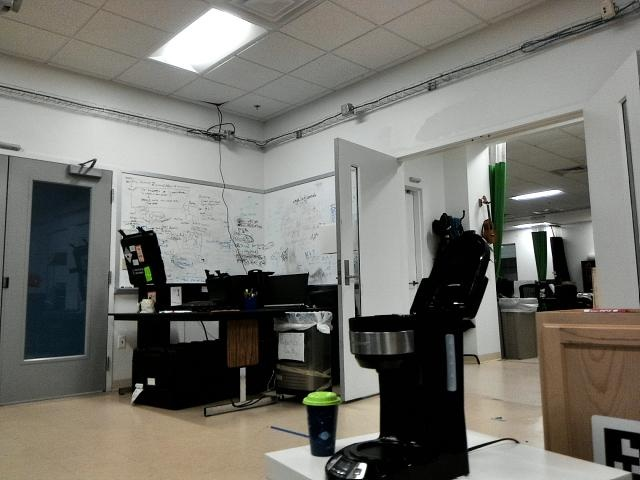useless_cup: (302, 390, 340, 460)
